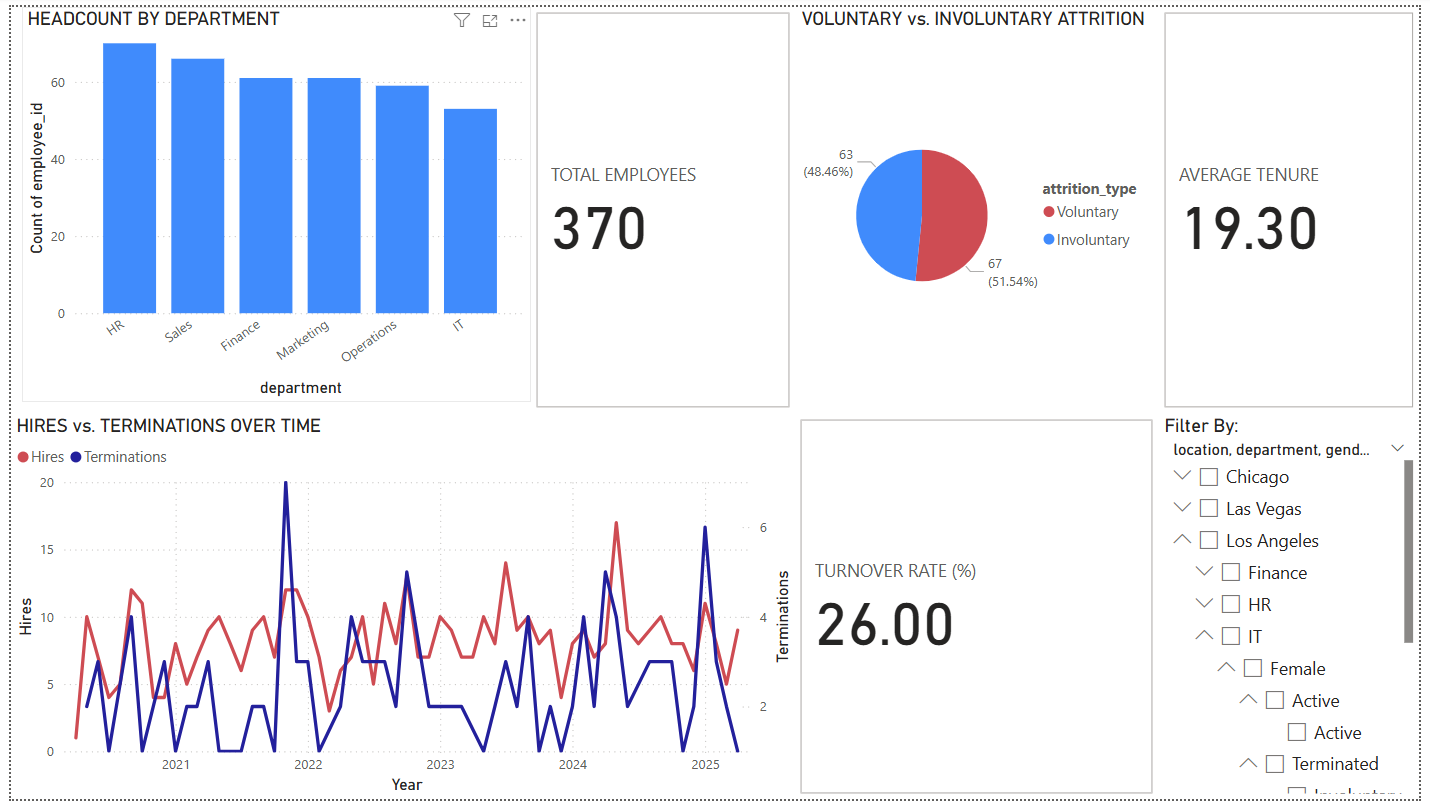

The page's visual inventory and layout, read from the dashboard file:
{"tool":"powerbi","page":{"name":"Page 1","canvas":[1280,720],"ordinal":0},"visuals":[{"type":"columnChart","title":"HEADCOUNT BY DEPARTMENT","fields":{"Category":["cleaned_hr_data.department"],"Y":["CountNonNull(cleaned_hr_data.employee_id)"]},"box":[9.7,0,463.3,359.5],"z":0},{"type":"cardVisual","fields":{"Data":["CountNonNull(cleaned_hr_data.employee_id)"]},"box":[472.4,0,241,369.7],"z":1000},{"type":"pieChart","title":"VOLUNTARY vs. INVOLUNTARY ATTRITION","fields":{"Y":["CountNonNull(cleaned_hr_data.attrition_type)"],"Category":["cleaned_hr_data.attrition_type"]},"box":[713.4,0,330,360.1],"z":2000},{"type":"lineChart","title":"HIRES vs. TERMINATIONS OVER TIME","fields":{"Y2":["cleaned_hr_data.Terminations"],"Y":["CountNonNull(cleaned_hr_data.hire_date)"],"Category":["cleaned_hr_data.year_month.Variation.Date Hierarchy.Year","cleaned_hr_data.year_month.Variation.Date Hierarchy.Quarter","cleaned_hr_data.year_month.Variation.Date Hierarchy.Month"]},"box":[0,370,713.6,350],"z":2001},{"type":"cardVisual","fields":{"Data":["cleaned_hr_data.Average_Tenure"]},"box":[1043.4,0,236.9,369.7],"z":2002},{"type":"cardVisual","fields":{"Data":["cleaned_hr_data.Turnover_Rate"]},"box":[713,370,330,350],"z":2003},{"type":"slicer","title":"Filter By:","fields":{"Values":["cleaned_hr_data.location","cleaned_hr_data.department","cleaned_hr_data.gender","cleaned_hr_data.employment_status","cleaned_hr_data.attrition_type"]},"box":[1044,370,236,350],"z":2004}]}

Visuals, with their boxes in screenshot pixels (x1, y1, x2, y2), scaled from the page's 1280x720 canvas onto the 1430x808 screenshot:
"HEADCOUNT BY DEPARTMENT" columnChart: pyautogui.locateOnScreen(11, 0, 528, 403)
cardVisual - CountNonNull(cleaned_hr_data.employee_id): pyautogui.locateOnScreen(528, 0, 797, 415)
"VOLUNTARY vs. INVOLUNTARY ATTRITION" pieChart: pyautogui.locateOnScreen(797, 0, 1166, 404)
"HIRES vs. TERMINATIONS OVER TIME" lineChart: pyautogui.locateOnScreen(0, 415, 797, 807)
cardVisual - cleaned_hr_data.Average_Tenure: pyautogui.locateOnScreen(1166, 0, 1429, 415)
cardVisual - cleaned_hr_data.Turnover_Rate: pyautogui.locateOnScreen(797, 415, 1165, 807)
"Filter By:" slicer: pyautogui.locateOnScreen(1166, 415, 1429, 807)
